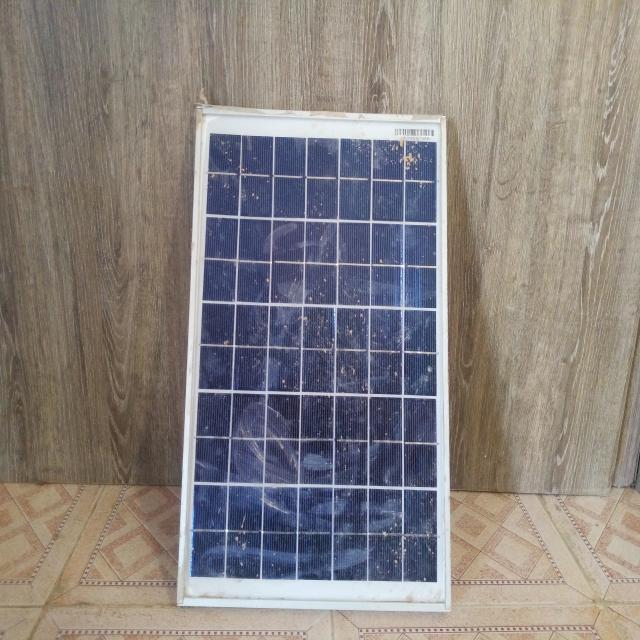faulty: (178, 109, 448, 609)
